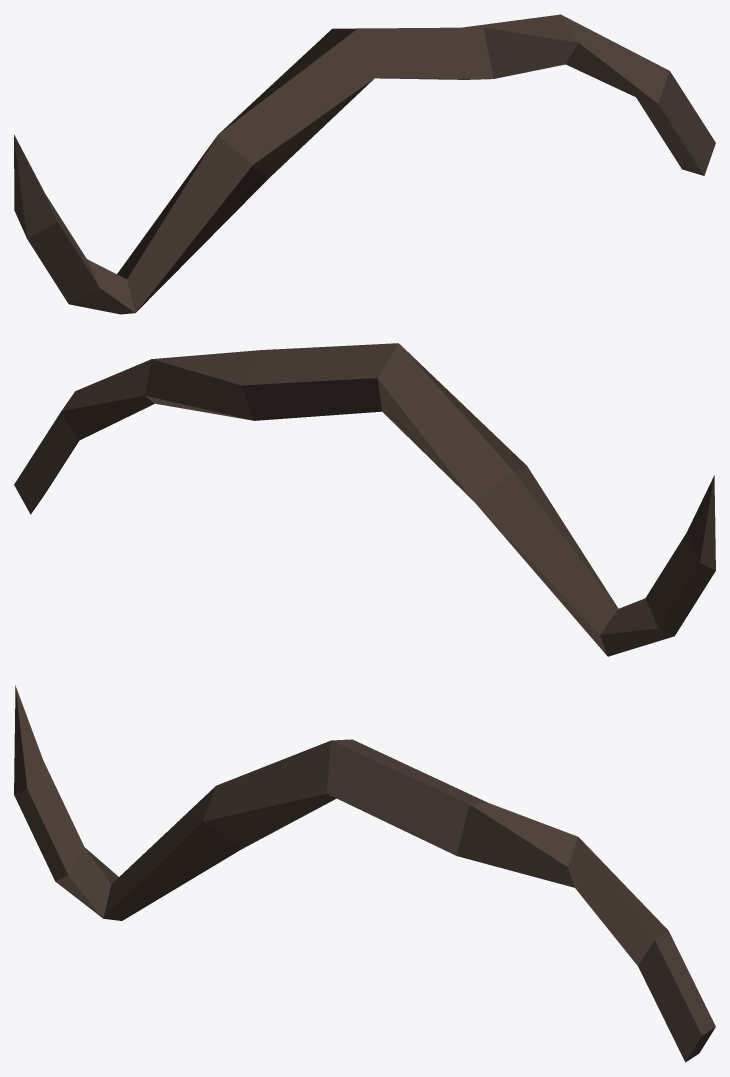
The model's file is branch1_disturb.fbx.
The picture shows the model from 3 angles, top to bottom: view 1: azimuth 30°, elevation 25°; view 2: azimuth 150°, elevation 25°; view 3: azimuth 330°, elevation 25°; orthographic projection.
Visible parts, largest first — view 1: Cube; view 2: Cube; view 3: Cube.
Part boxes in pixels (x1,y1,x2,y2): Cube: (14, 14, 715, 314); Cube: (14, 343, 715, 656); Cube: (14, 685, 715, 1062).
Size of the model in its own units: 2974 by 1004 by 307.
